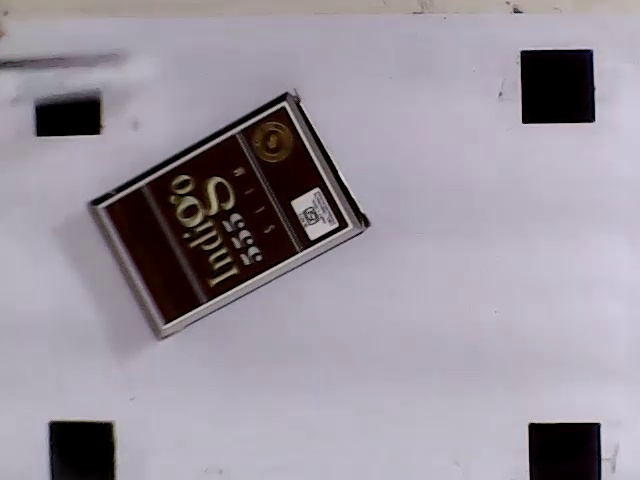BEX: (101, 105, 350, 326)
